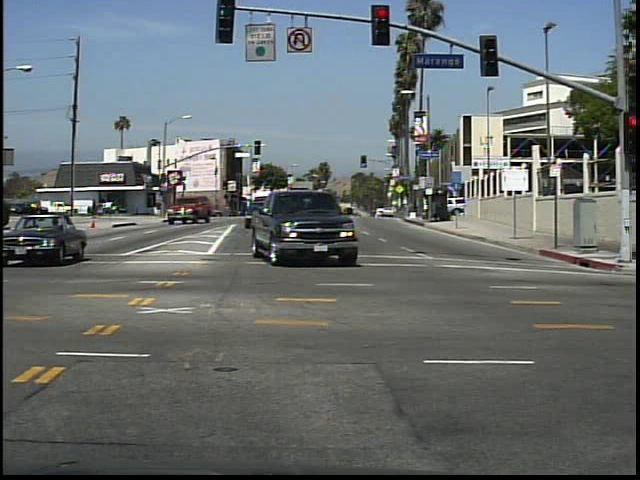person: (88, 198, 101, 223)
